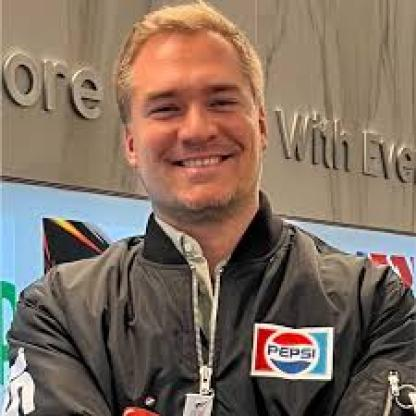person: (116, 8, 272, 220)
